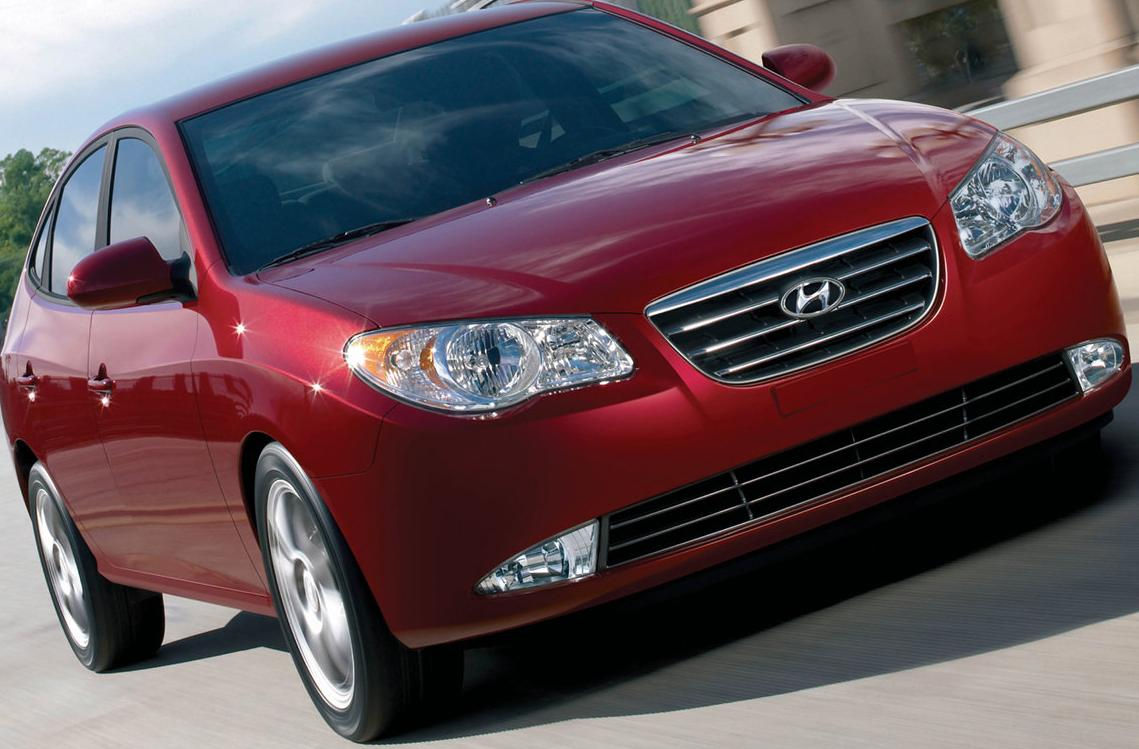front_view: (337, 144, 1138, 629)
headlight: (338, 317, 639, 420)
side_glass: (18, 126, 211, 311)
